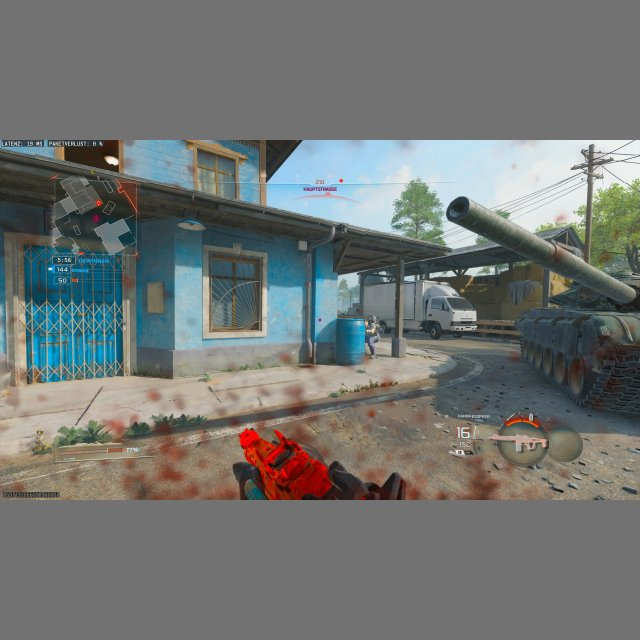head: (368, 314, 376, 322)
player: (363, 314, 383, 359)
